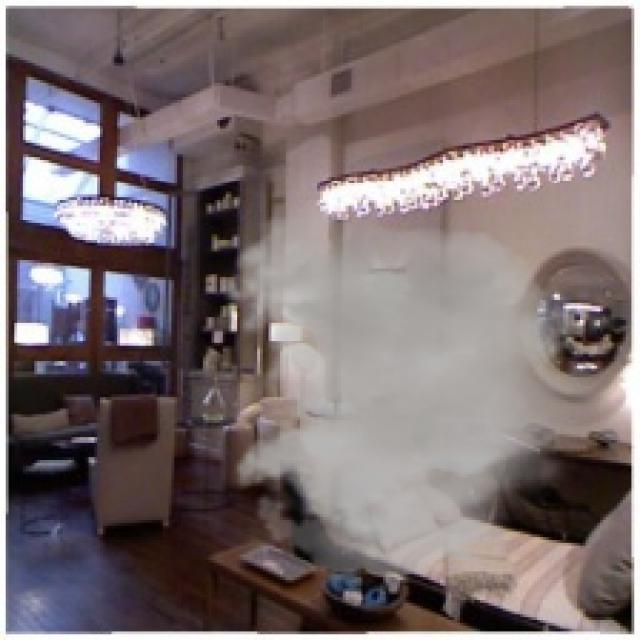Smoke: (223, 212, 620, 577)
